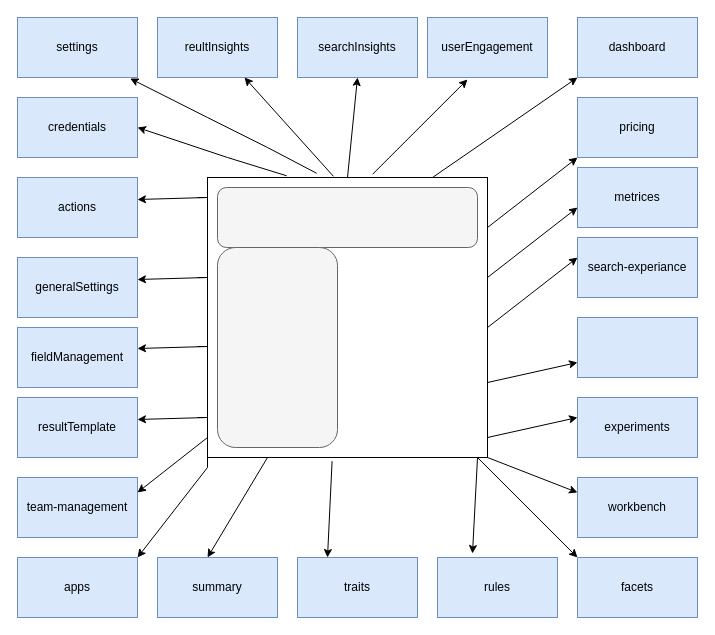
The diagram is 715 pixels wide and 635 high, and some of its shapes have lost their labels. Each missing label, with the box of its shape:
<router-outlet>: (206, 176, 488, 458)
Header: (216, 186, 478, 248)
mainmenu: (216, 246, 338, 448)
resultRanking: (576, 316, 698, 378)
